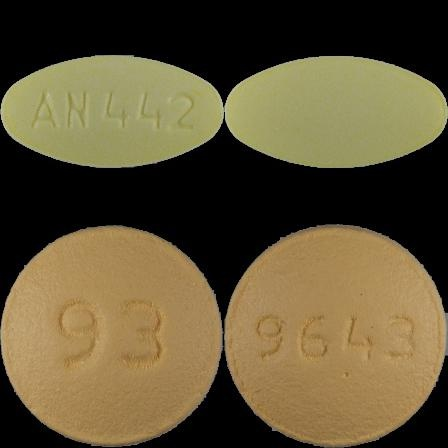50090-0107: (0, 0, 224, 224)
